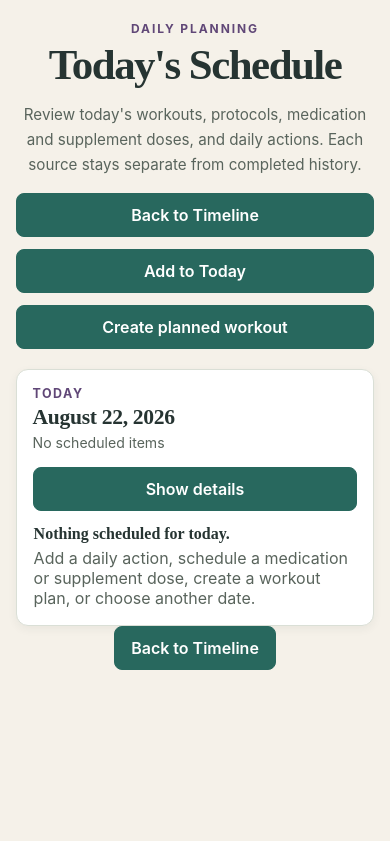
rejects invalid plans through the existing validation path
Click the button "Show details". click: click(195, 489)
box: [33, 467, 357, 511]
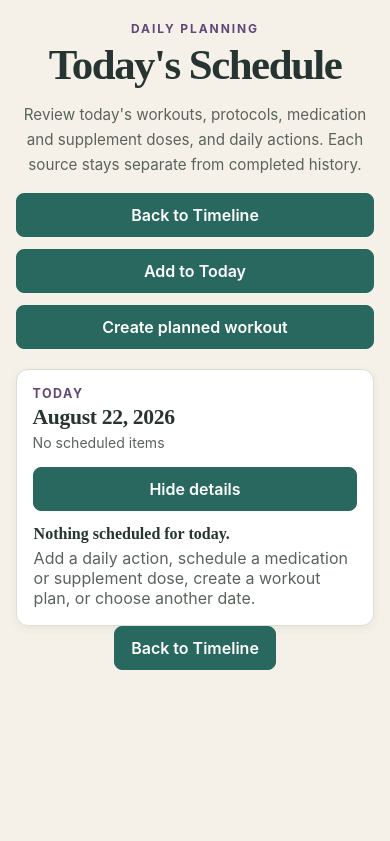
Click the button "Create planned workout". click: click(195, 327)
box: [16, 305, 374, 349]
(page scrolled)
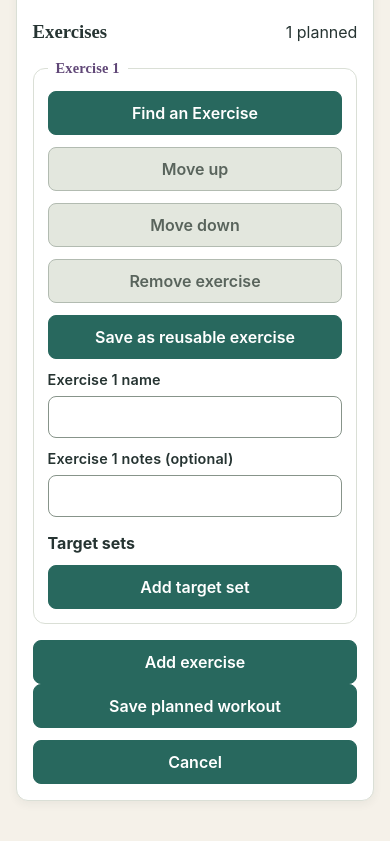
Click the button "Save planned workout". click: click(195, 706)
box: [33, 684, 357, 728]
(page scrolled)
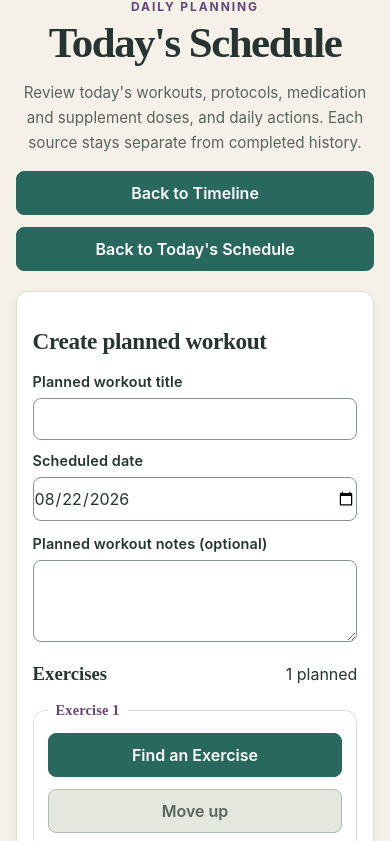
Type "Push" into the field labelled "Planned workout title". click: (195, 420)
box: [33, 398, 357, 440]
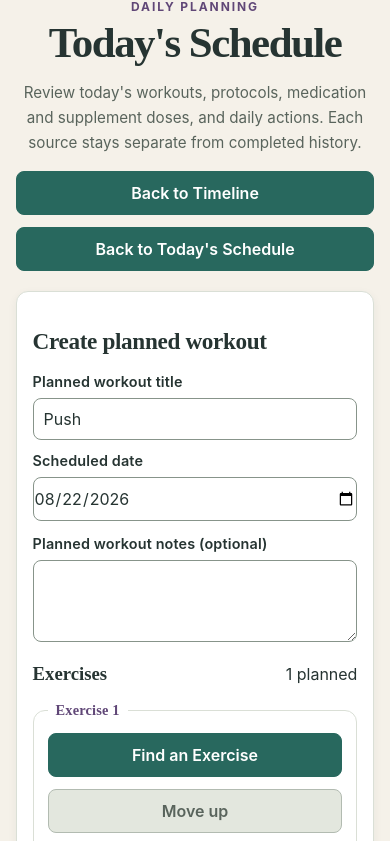
Clear the date field labelled "Scheduled date". click: (195, 500)
box: [33, 478, 357, 522]
(page scrolled)
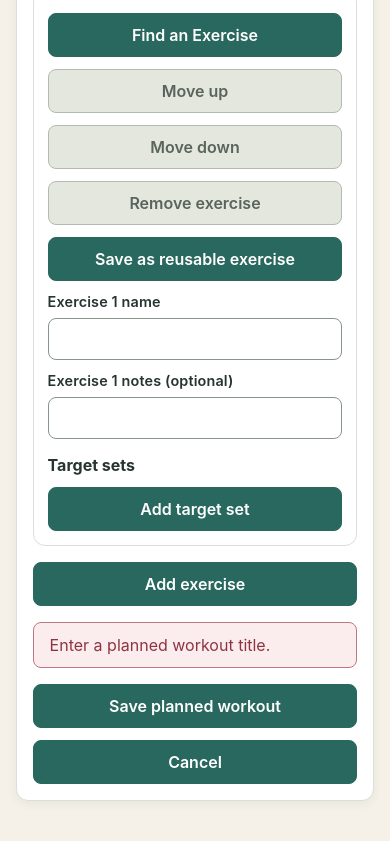
Click the button "Save planned workout". click: click(195, 706)
box: [33, 684, 357, 728]
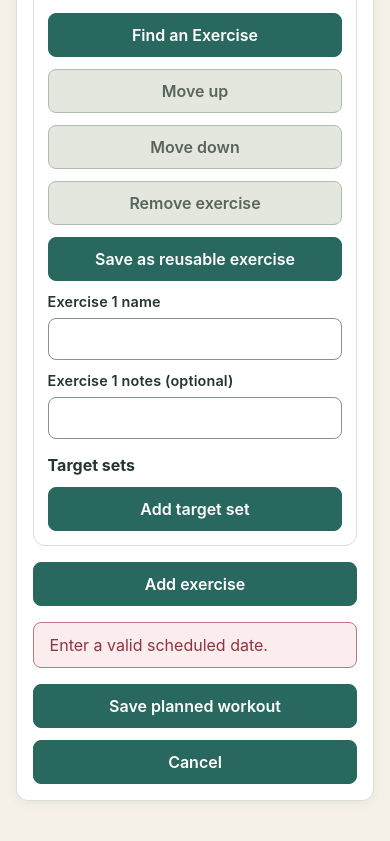
Expected: the message reads "Enter a valid scheduled date.", [50, 635, 268, 655]
